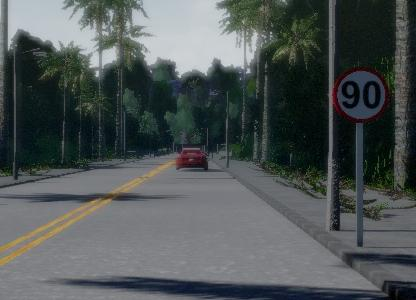Speed_90: (329, 61, 390, 125)
